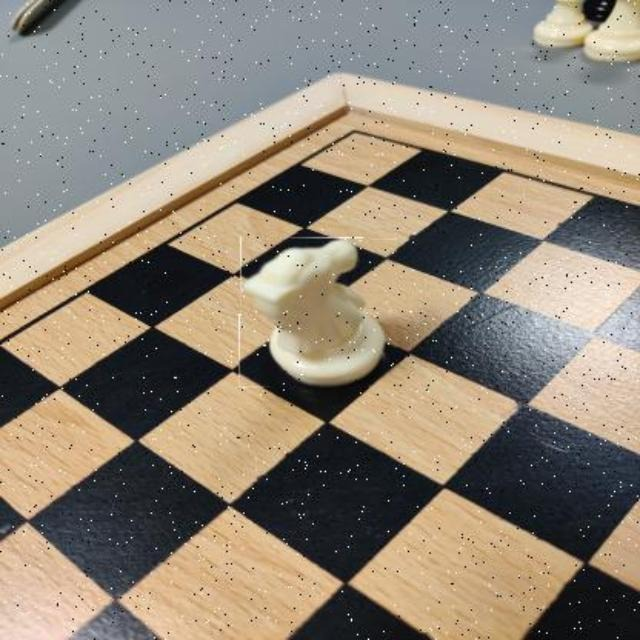white-knight: (240, 238, 398, 390)
